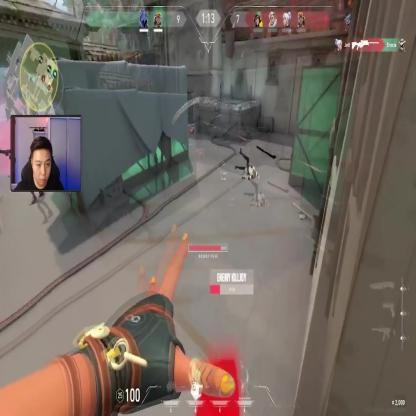enemy: (15, 126, 45, 205)
